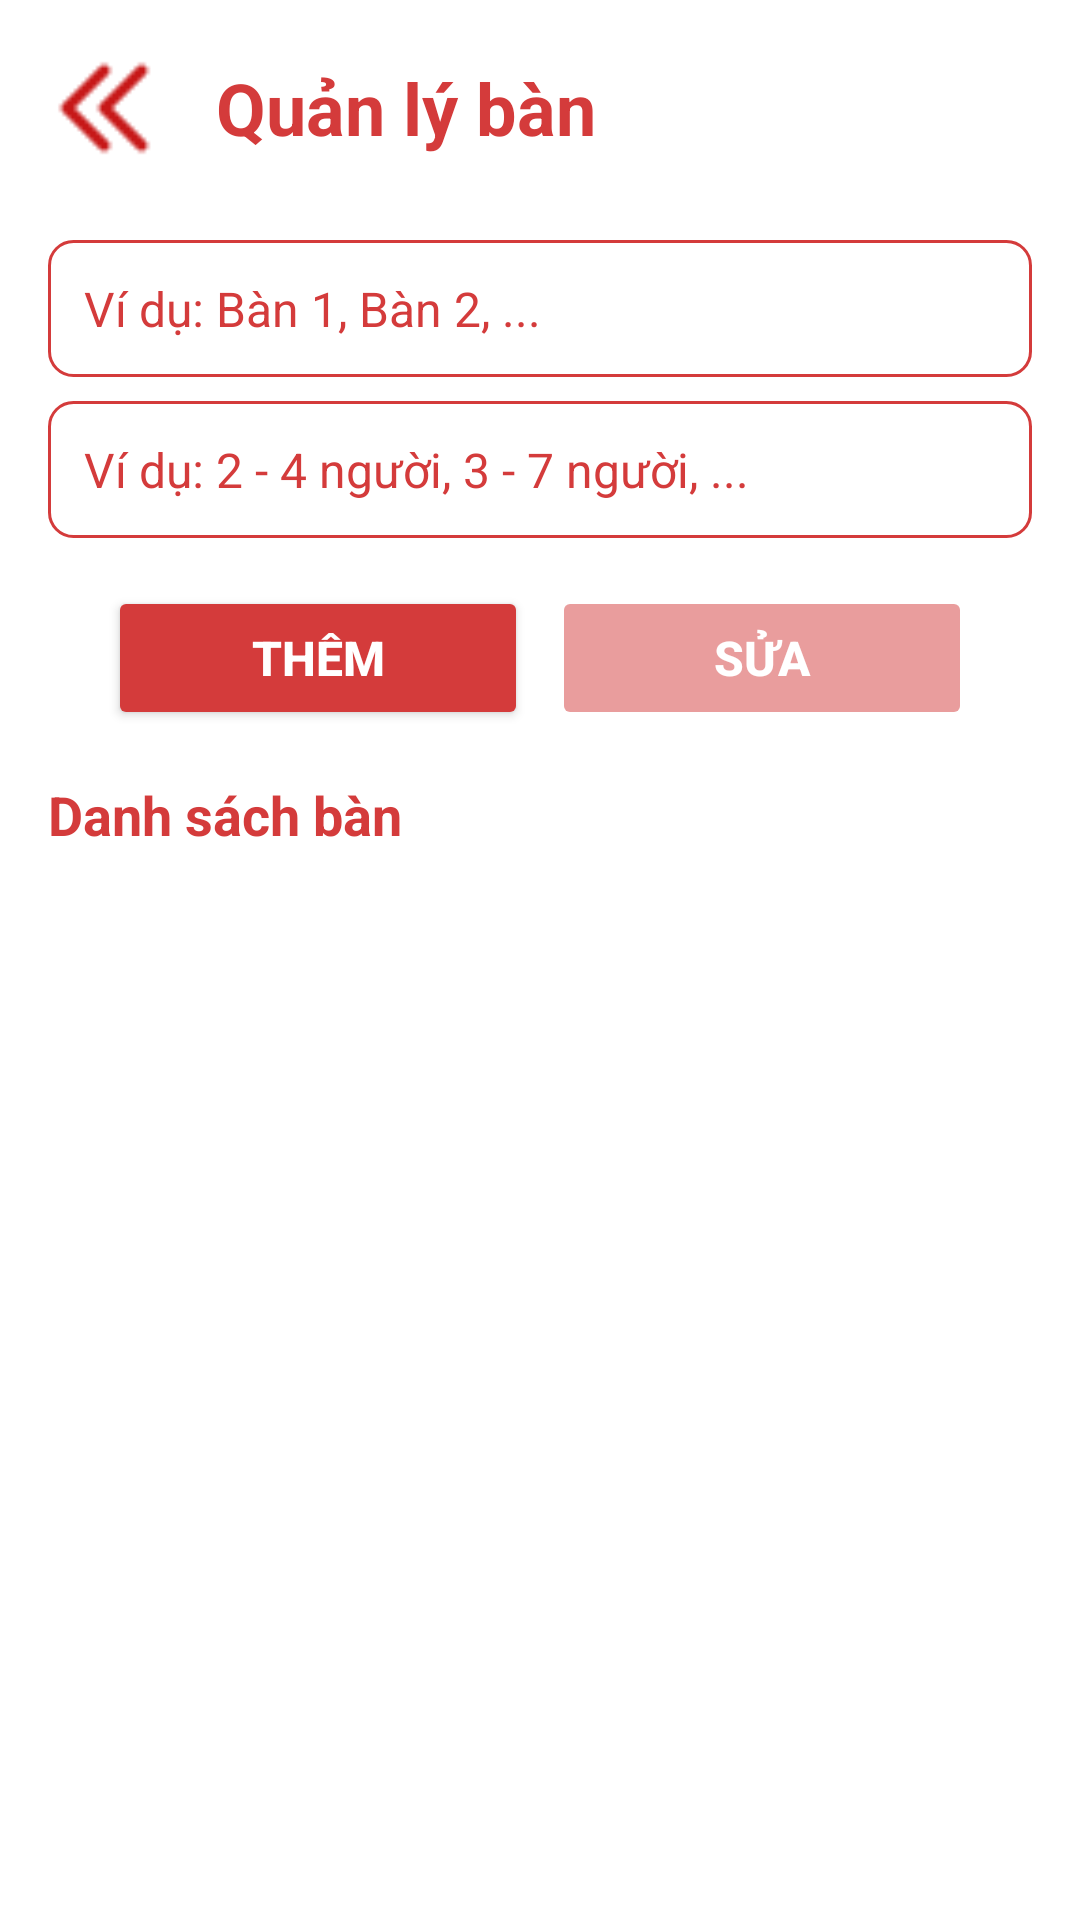

Icon click points for this 1080 x 1920 phone screenshot, format (x,y):
Back button: (104,108)
